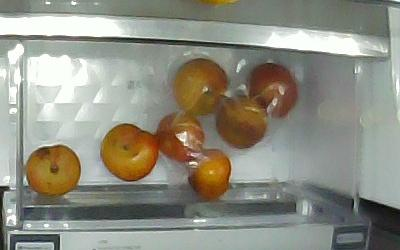prune: (100, 123, 159, 182), (26, 144, 81, 195)
prune_vinyl: (173, 58, 228, 115), (247, 62, 297, 117), (216, 96, 267, 149), (159, 113, 204, 163), (188, 149, 231, 200)
